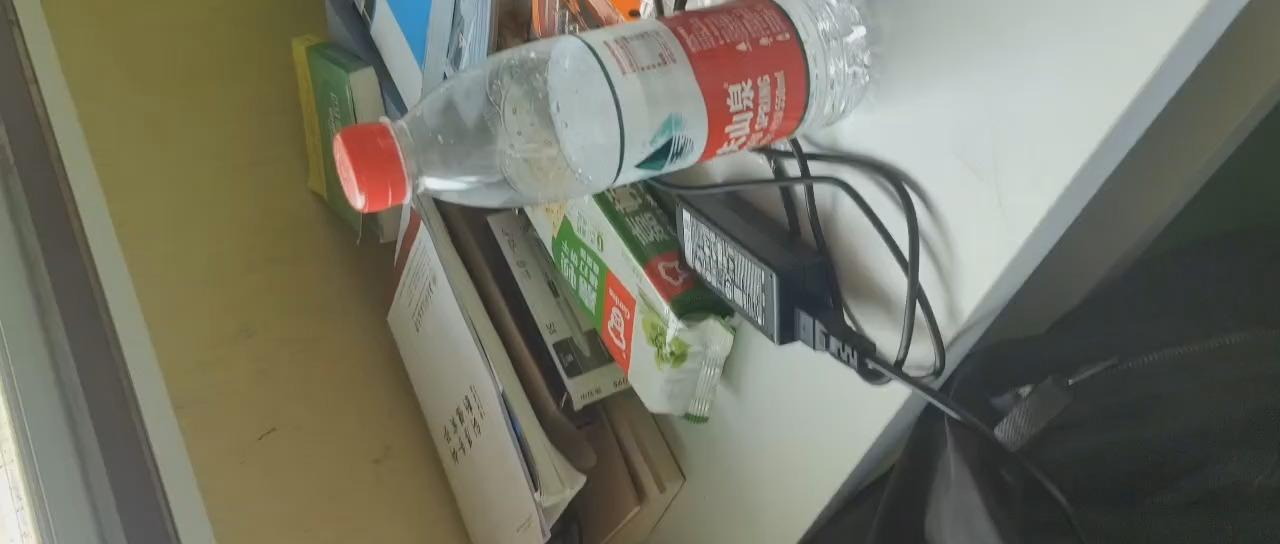BIODEGRADABLE: (335, 0, 875, 211)
